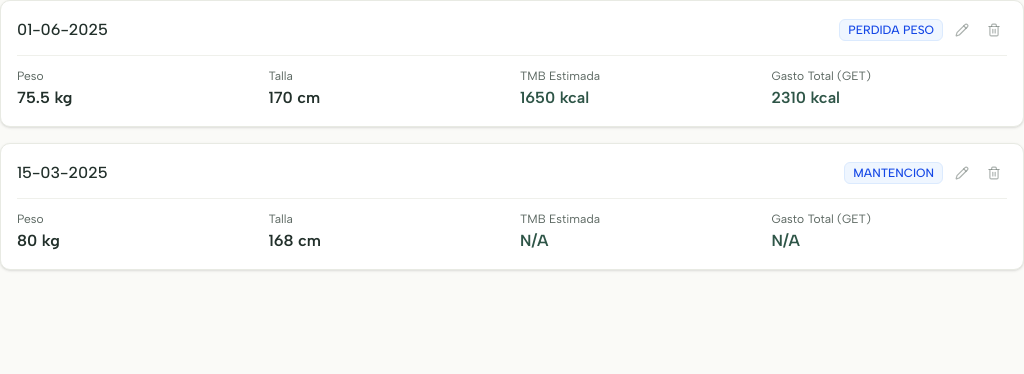
Test: HistorialEvaluaciones › al abrir la segunda tarjeta los inputs reflejan sus valores, no los de la primera
This screenshot has width=1024, height=374.
Step 1. Click the button named "editar evaluación" next to "mantencion" → (962,173), box [949,160,975,186]
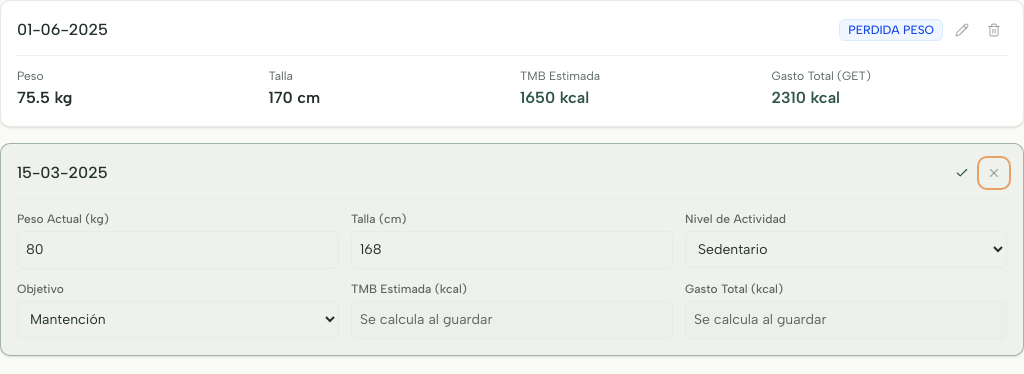
Expected: the number field named "peso actual" holds "80", [17,231,339,269]
Expected: the number field named "talla" holds "168", [351,231,673,269]
Expected: the dropdown named "nivel de actividad" shows "Sedentario", [685,231,1007,268]
